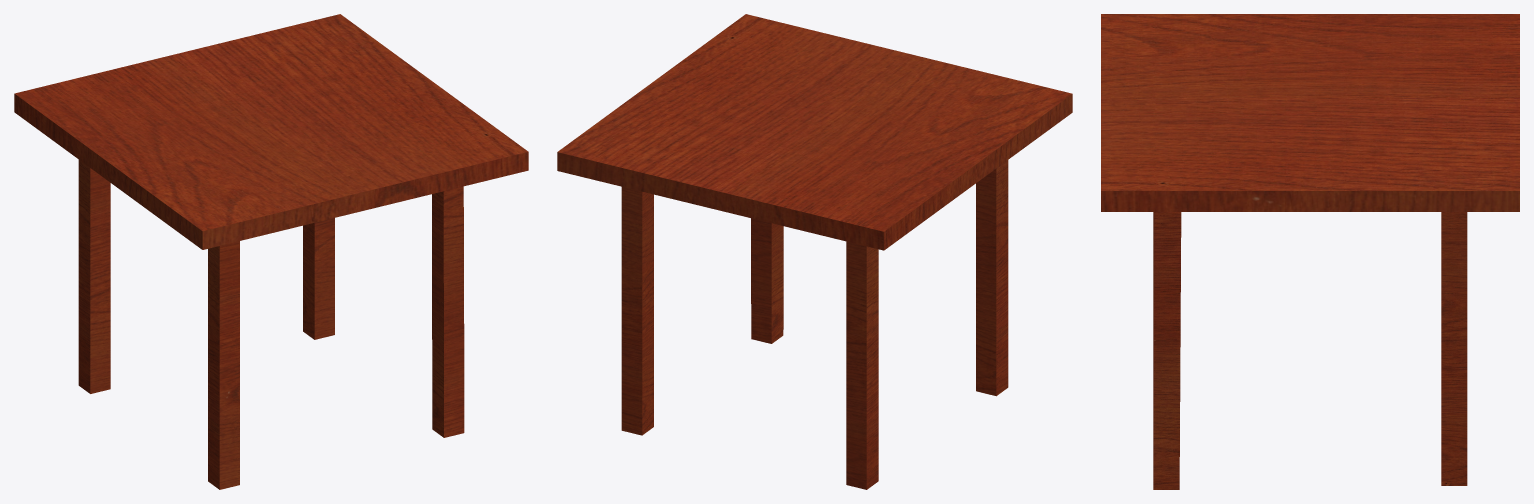
The model's file is table.fbx.
The picture shows the model from 3 angles, left to right: view 1: azimuth 30°, elevation 25°; view 2: azimuth 150°, elevation 25°; view 3: azimuth 270°, elevation 25°; orthographic projection. The views are drawn at different scales.
Visible parts, largest first — view 1: Table Top, Table Legs; view 2: Table Top, Table Legs; view 3: Table Top, Table Legs.
Boxes of the visible parts, bbox=[...] form: Table Top: bbox=[14, 14, 528, 249]; Table Legs: bbox=[78, 160, 464, 489]; Table Top: bbox=[557, 14, 1072, 250]; Table Legs: bbox=[621, 160, 1008, 489]; Table Top: bbox=[1101, 14, 1519, 211]; Table Legs: bbox=[1153, 212, 1467, 489].
Bounding box in the file's own units: 2.92 × 2.47 × 2.92.
Materials: 1 (1 with a texture image).
